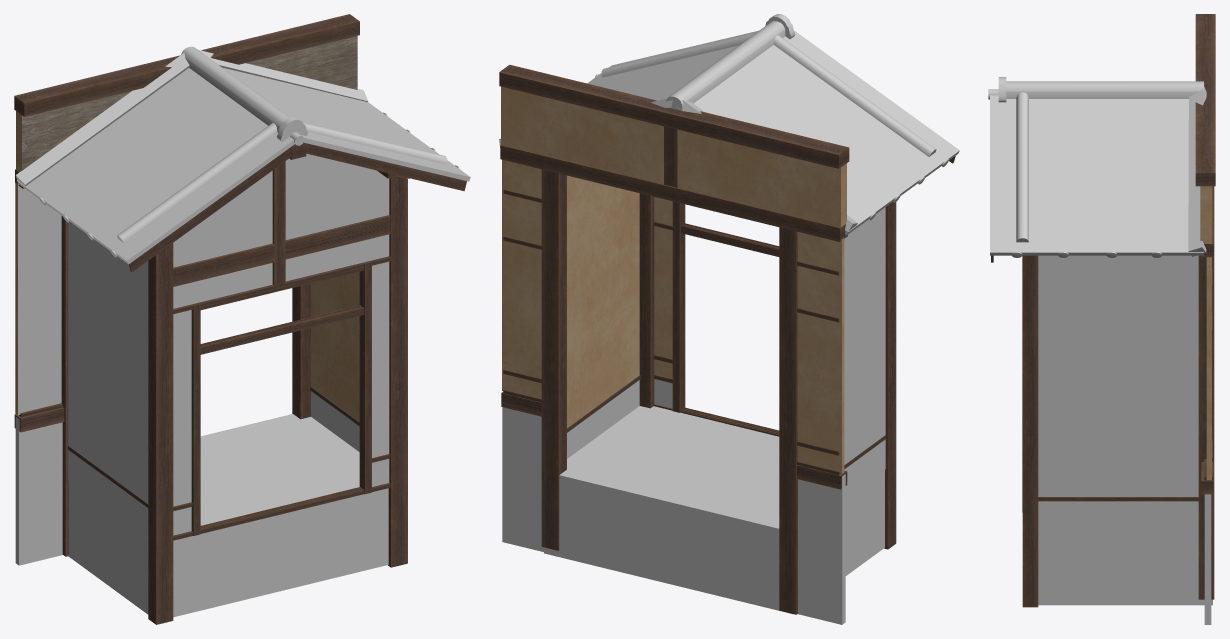
The model's file is kawara_entrance_2ta.fbx.
3 renders of one model, left to right at view 1: azimuth 30°, elevation 25°; view 2: azimuth 150°, elevation 25°; view 3: azimuth 270°, elevation 25°, orthographic. The views are drawn at different scales.
Parts seen in each view (by area): view 1: kawara_entrance_2ta; view 2: kawara_entrance_2ta; view 3: kawara_entrance_2ta.
Boxes of the visible parts, <box> form: kawara_entrance_2ta: <box>14,14,470,624</box>; kawara_entrance_2ta: <box>499,14,959,624</box>; kawara_entrance_2ta: <box>988,14,1215,624</box>.
Bounding box in the file's own units: 457 × 606 × 266.
